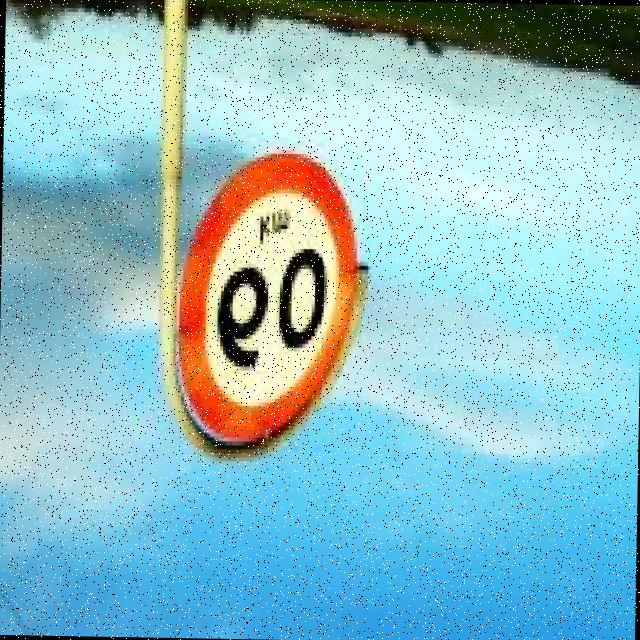speed_limit_60: (166, 146, 368, 451)
